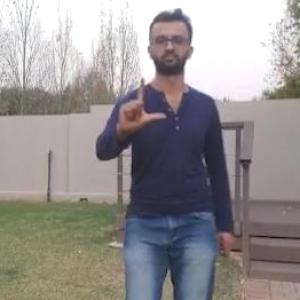land_hand: (115, 74, 167, 136)
